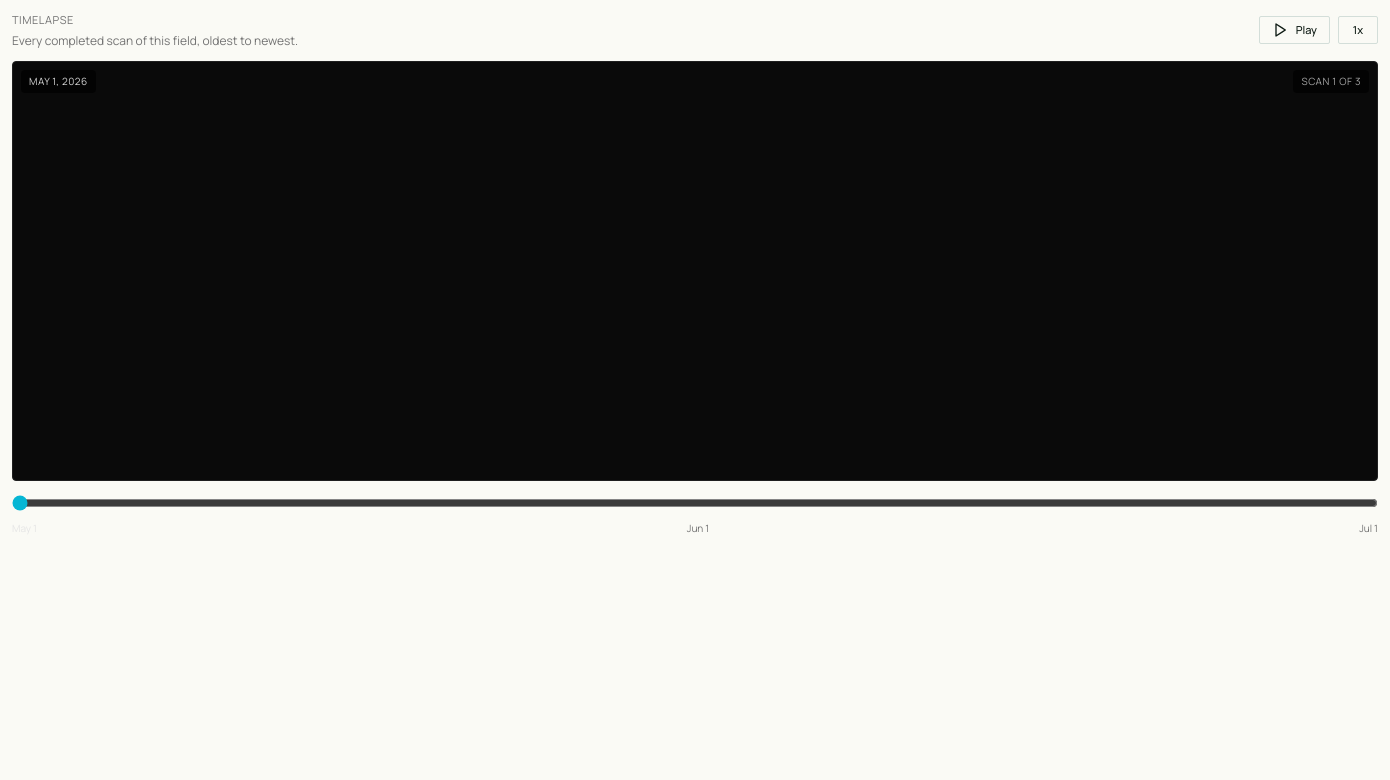
Scenario: playback › offers a speed control that toggles between 1x and 2x
Click the button named "playback speed 1x". click: (1358,30)
box: [1338,16,1378,44]
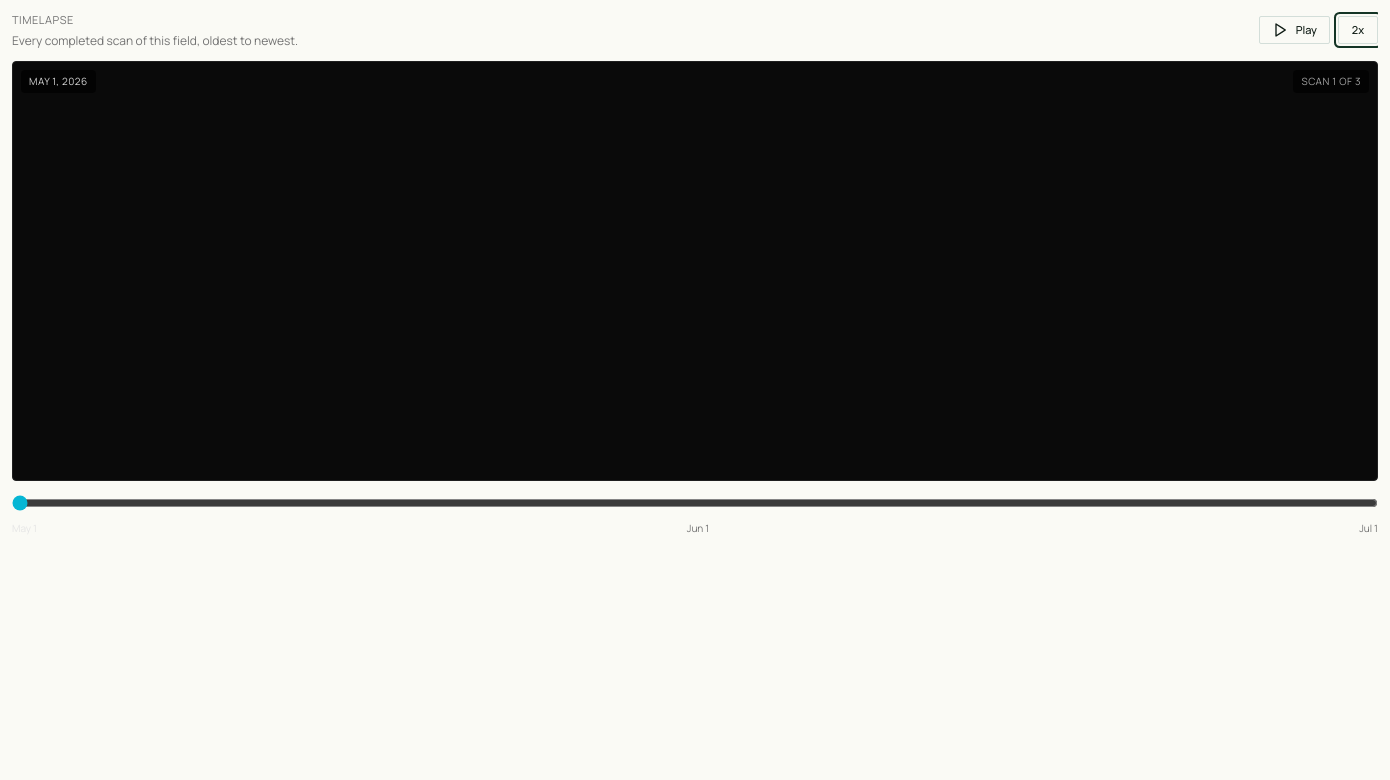
Expected: the button named "playback speed 2x" is shown, [1338,16,1378,44]
